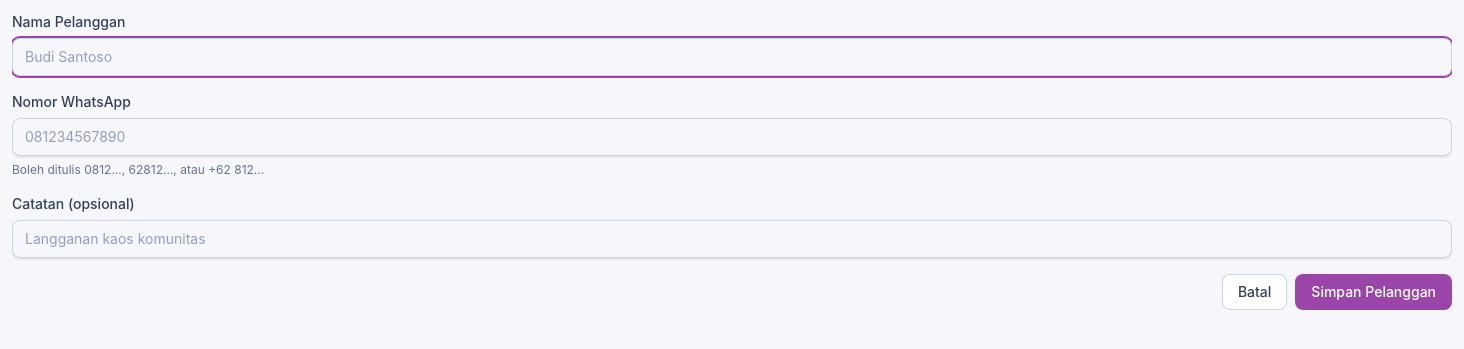
it: CustomerForm — validasi › menampilkan error per field dari fieldState dan tidak submit
Click the button "Simpan Pelanggan". click: (1374, 292)
box: [1295,274,1452,310]
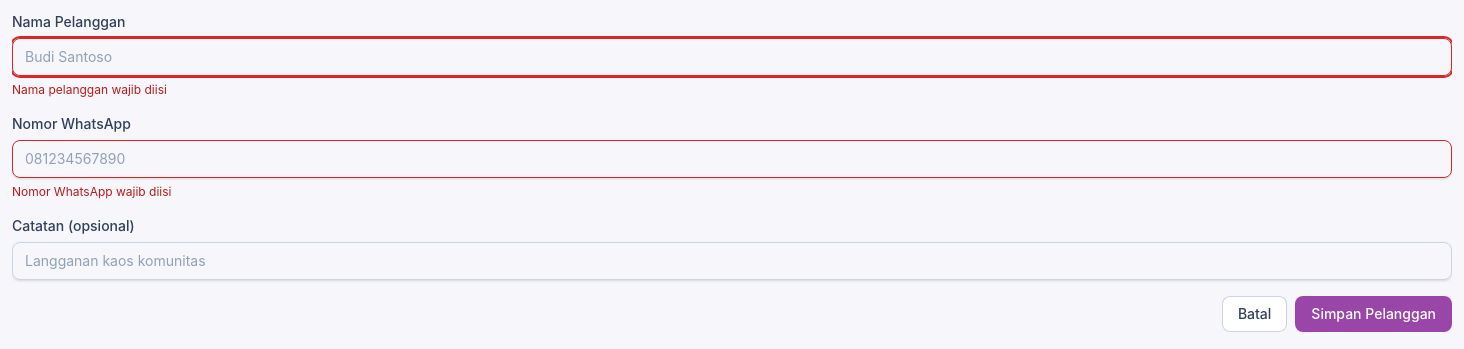
Check: the text "Nama pelanggan wajib diisi" is shown, box [12,82,167,97]
Check: the text "Nomor WhatsApp wajib diisi" is shown, box [12,184,172,199]
